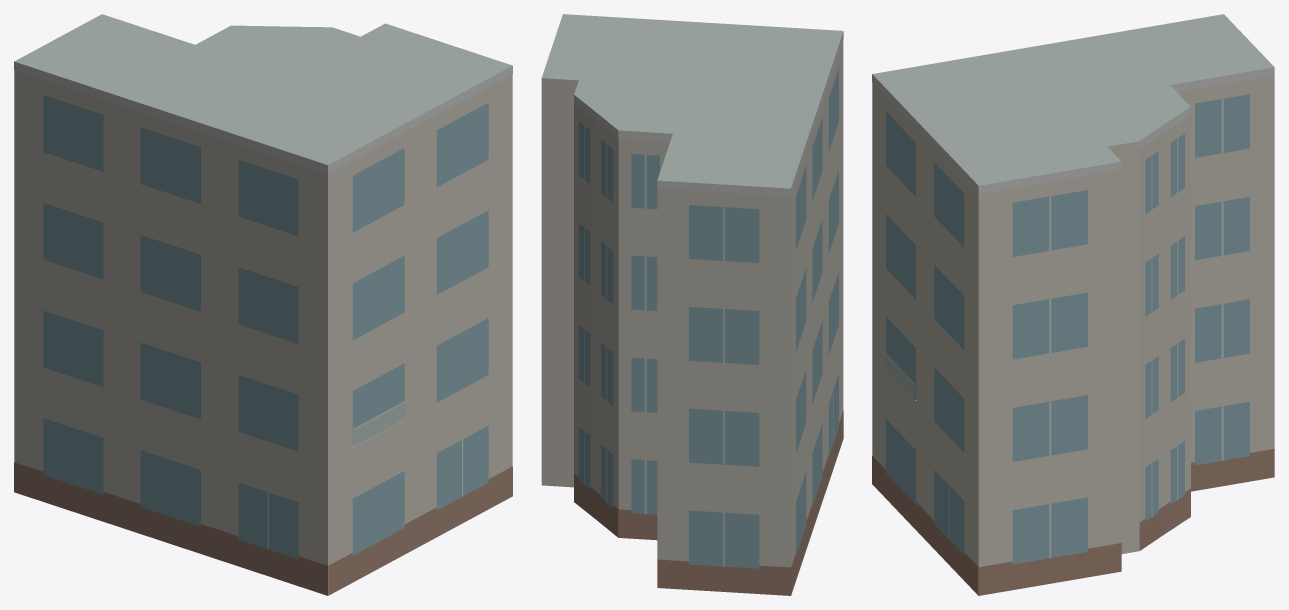
File: residential-125f6099-dcdf-4ab1-9f3d-fe5b0b3dd46b.glb
The picture shows the model from 3 angles, left to right: view 1: azimuth 30°, elevation 25°; view 2: azimuth 150°, elevation 25°; view 3: azimuth 270°, elevation 25°; orthographic projection. The views are drawn at different scales.
Visible parts, largest first — view 1: residential-125f6099-dcdf-4ab1-9f3d-fe5b0b3dd46b.tmp; view 2: residential-125f6099-dcdf-4ab1-9f3d-fe5b0b3dd46b.tmp; view 3: residential-125f6099-dcdf-4ab1-9f3d-fe5b0b3dd46b.tmp.
Part boxes in pixels (x1,y1,x2,y2): residential-125f6099-dcdf-4ab1-9f3d-fe5b0b3dd46b.tmp: [14, 14, 512, 595]; residential-125f6099-dcdf-4ab1-9f3d-fe5b0b3dd46b.tmp: [541, 14, 843, 595]; residential-125f6099-dcdf-4ab1-9f3d-fe5b0b3dd46b.tmp: [872, 14, 1274, 595].
Size of the model in its own units: 10.97 by 12.2 by 10.86.
